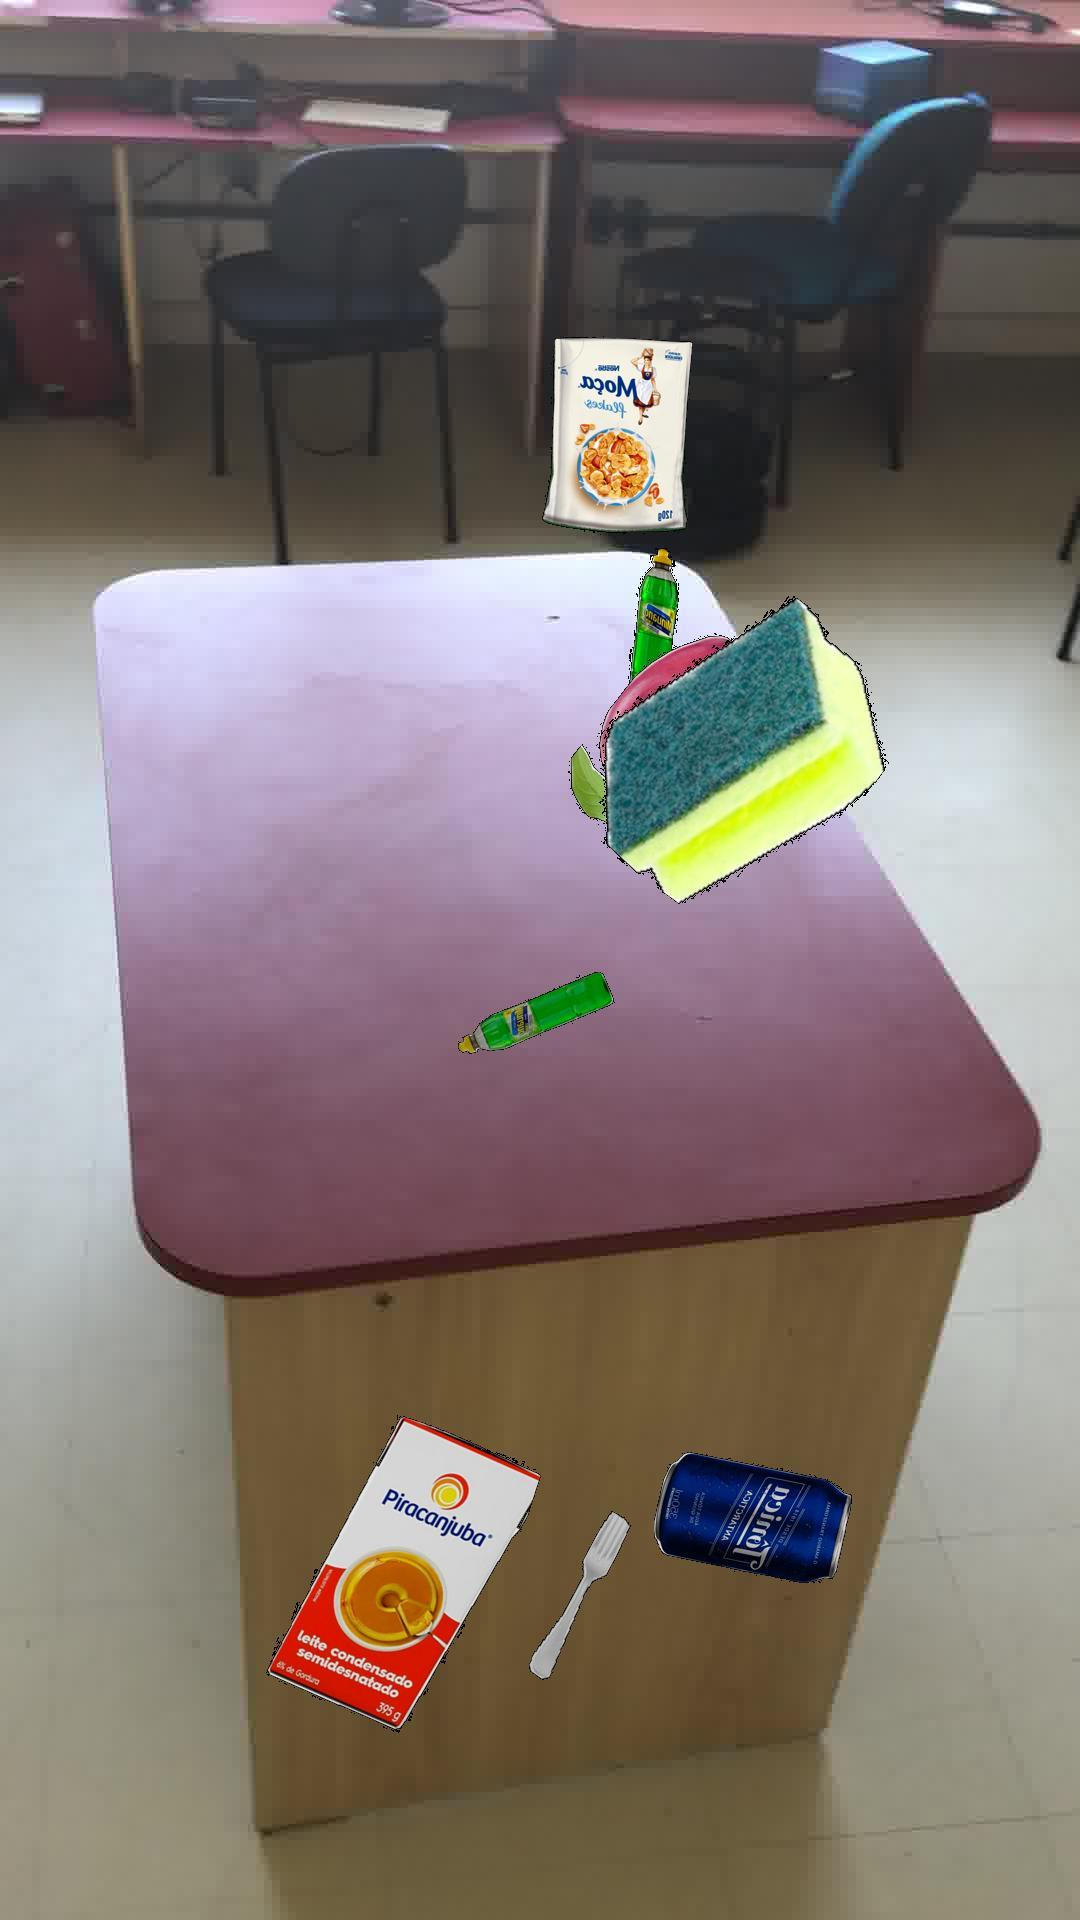apple: (568, 633, 731, 820)
cleaner: (456, 971, 612, 1052), (628, 546, 678, 682)
corn flakes: (541, 336, 691, 533)
fork: (527, 1510, 629, 1679)
sponge: (600, 596, 885, 902)
tonic: (653, 1451, 851, 1581)
